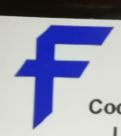Fisher: (12, 24, 114, 131)
